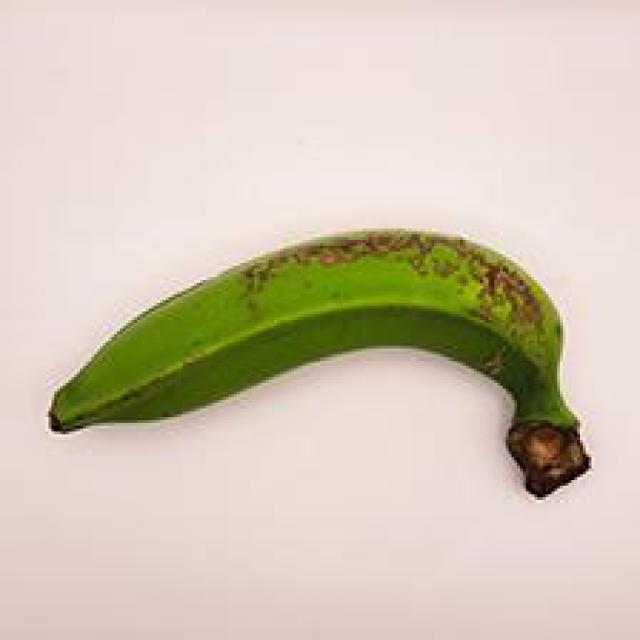Raw: (26, 210, 608, 526)
